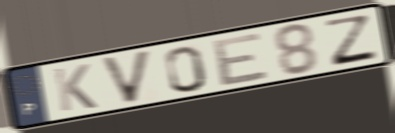0: (162, 43, 210, 94)
8: (272, 21, 322, 79)
E: (211, 29, 272, 89)
K: (50, 62, 100, 114)
V: (98, 47, 154, 107)
Z: (323, 13, 381, 69)
